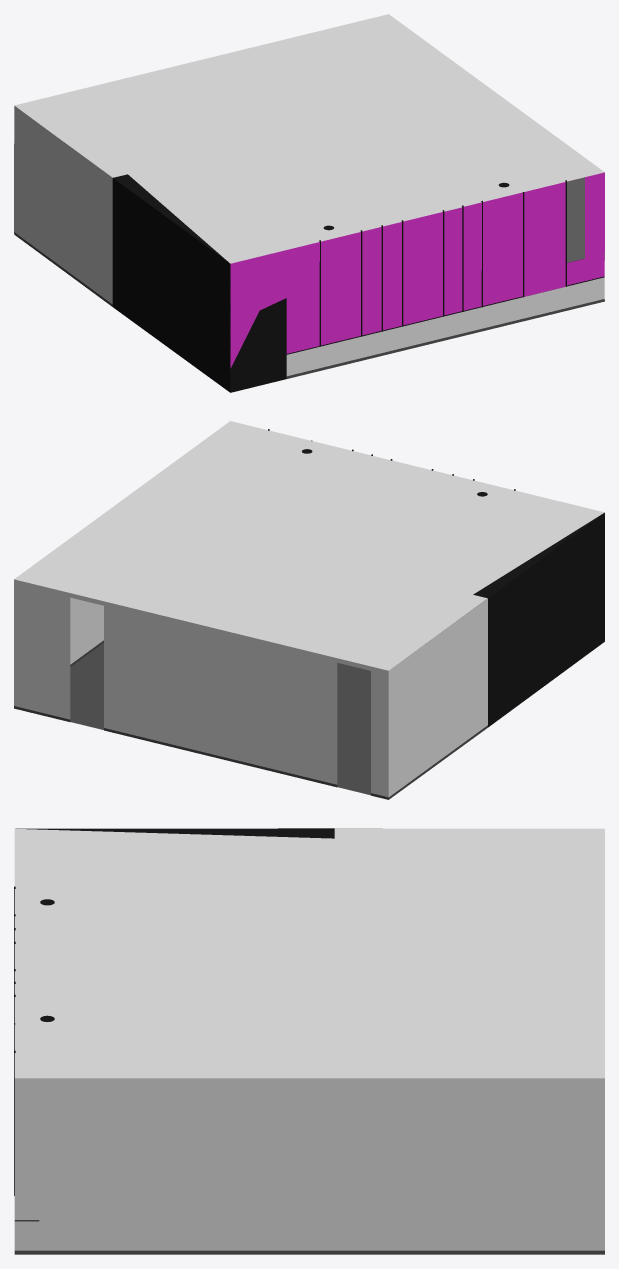
Rendered from Raum.fbx.
The picture shows the model from 3 angles, top to bottom: view 1: azimuth 30°, elevation 25°; view 2: azimuth 150°, elevation 25°; view 3: azimuth 270°, elevation 25°; orthographic projection. The views are drawn at different scales.
Visible parts, largest first — view 1: Raum.001, Floor; view 2: Raum.001, Floor; view 3: Raum.001, Floor.
Part boxes in pixels (x1,y1,x2,y2): Raum.001: (14, 14, 604, 392); Floor: (14, 232, 604, 385); Raum.001: (14, 421, 604, 797); Floor: (14, 640, 487, 799); Raum.001: (14, 828, 604, 1250); Floor: (14, 1250, 604, 1254).
Bounding box in the file's own units: 1058 × 352 × 1058.
